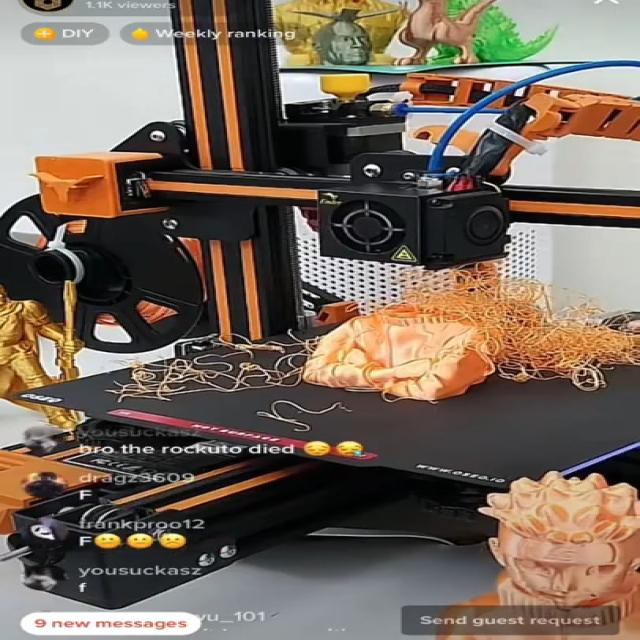spaghetti: (47, 257, 640, 416)
